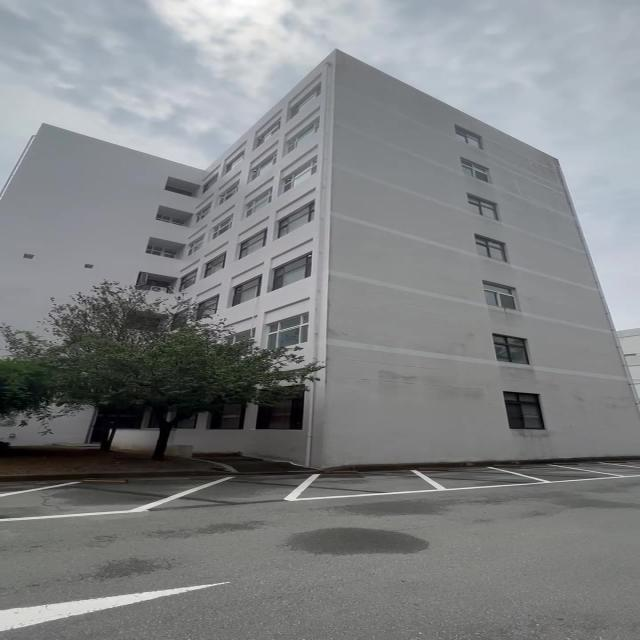building: (274, 77, 631, 465)
